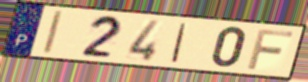0: (208, 25, 248, 69)
2: (77, 13, 126, 61)
4: (125, 18, 159, 62)
F: (245, 28, 296, 71)
I: (41, 10, 65, 56), (169, 21, 189, 64)
